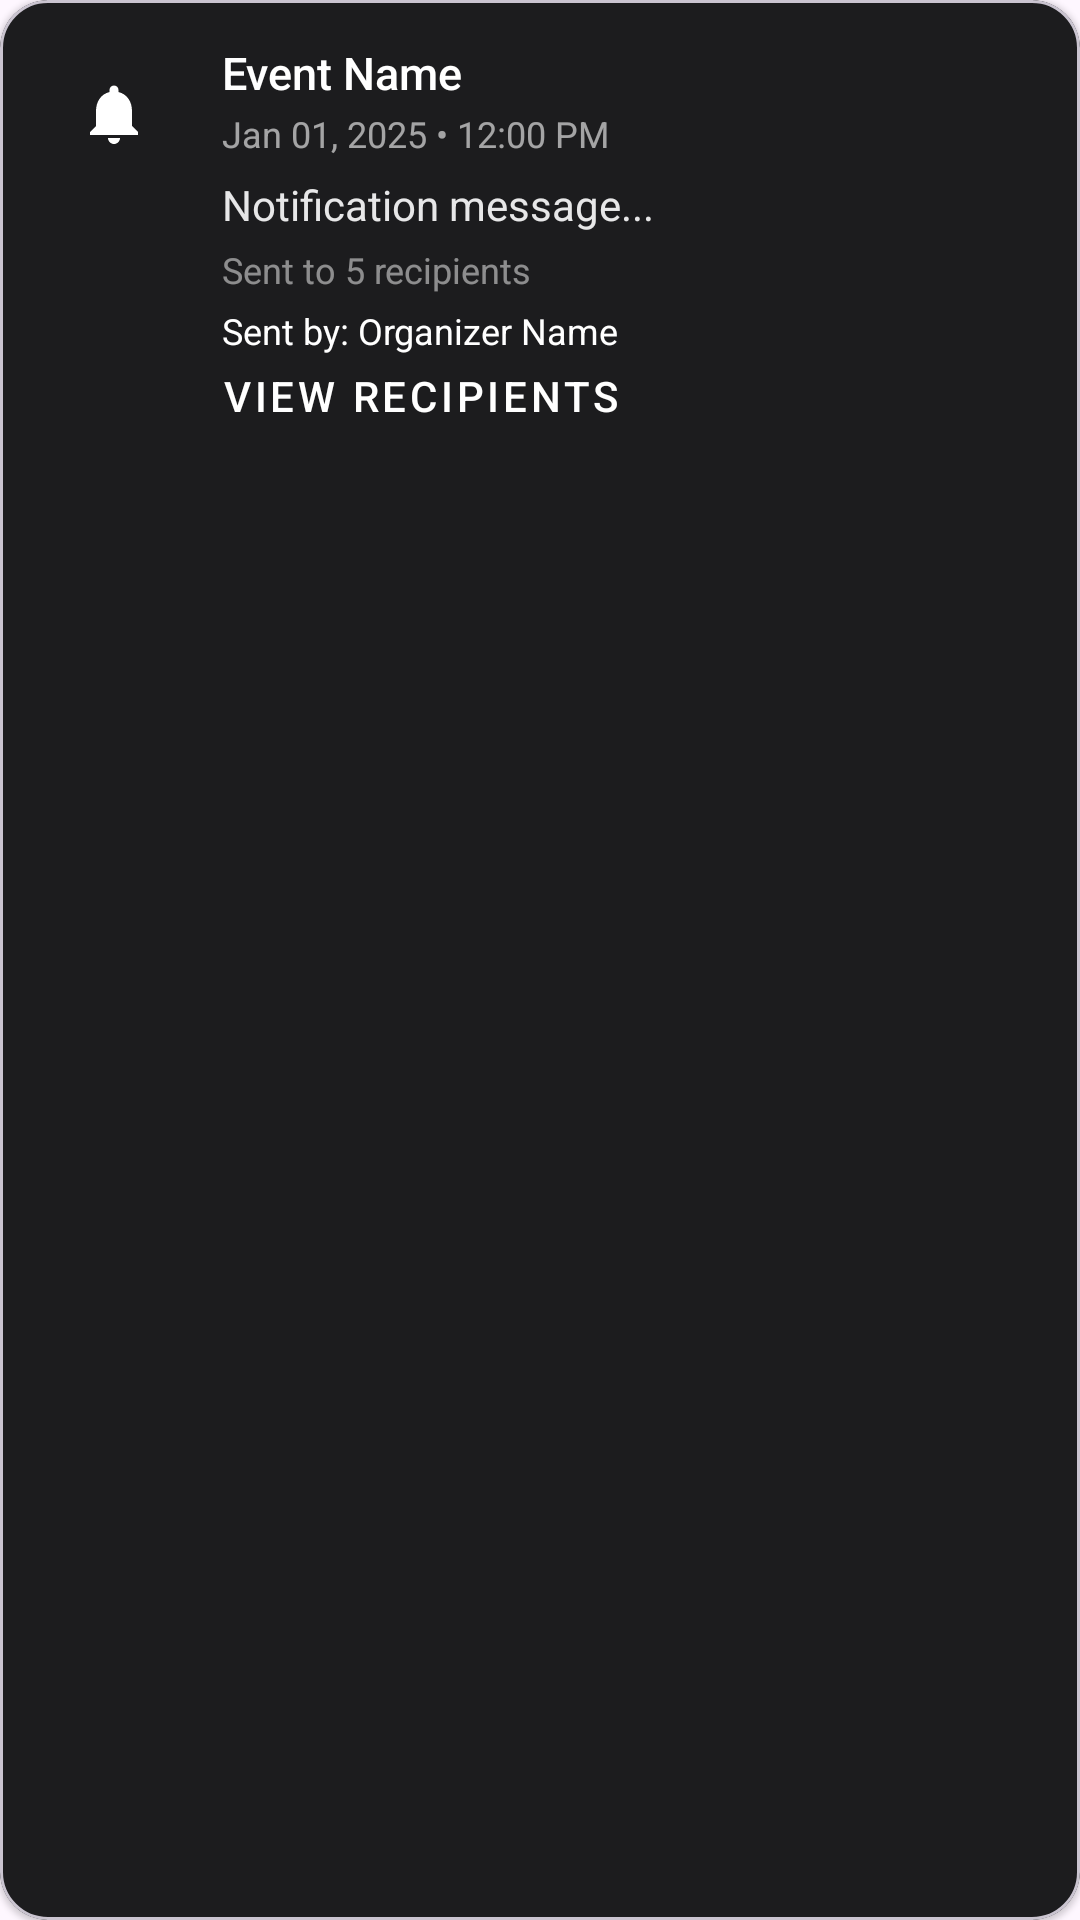

Icon bounding boxes for this 1080 × 1920 phone screenshot, format box=[x1, y1, x2, y2]:
bell: box=[90, 85, 138, 144]
